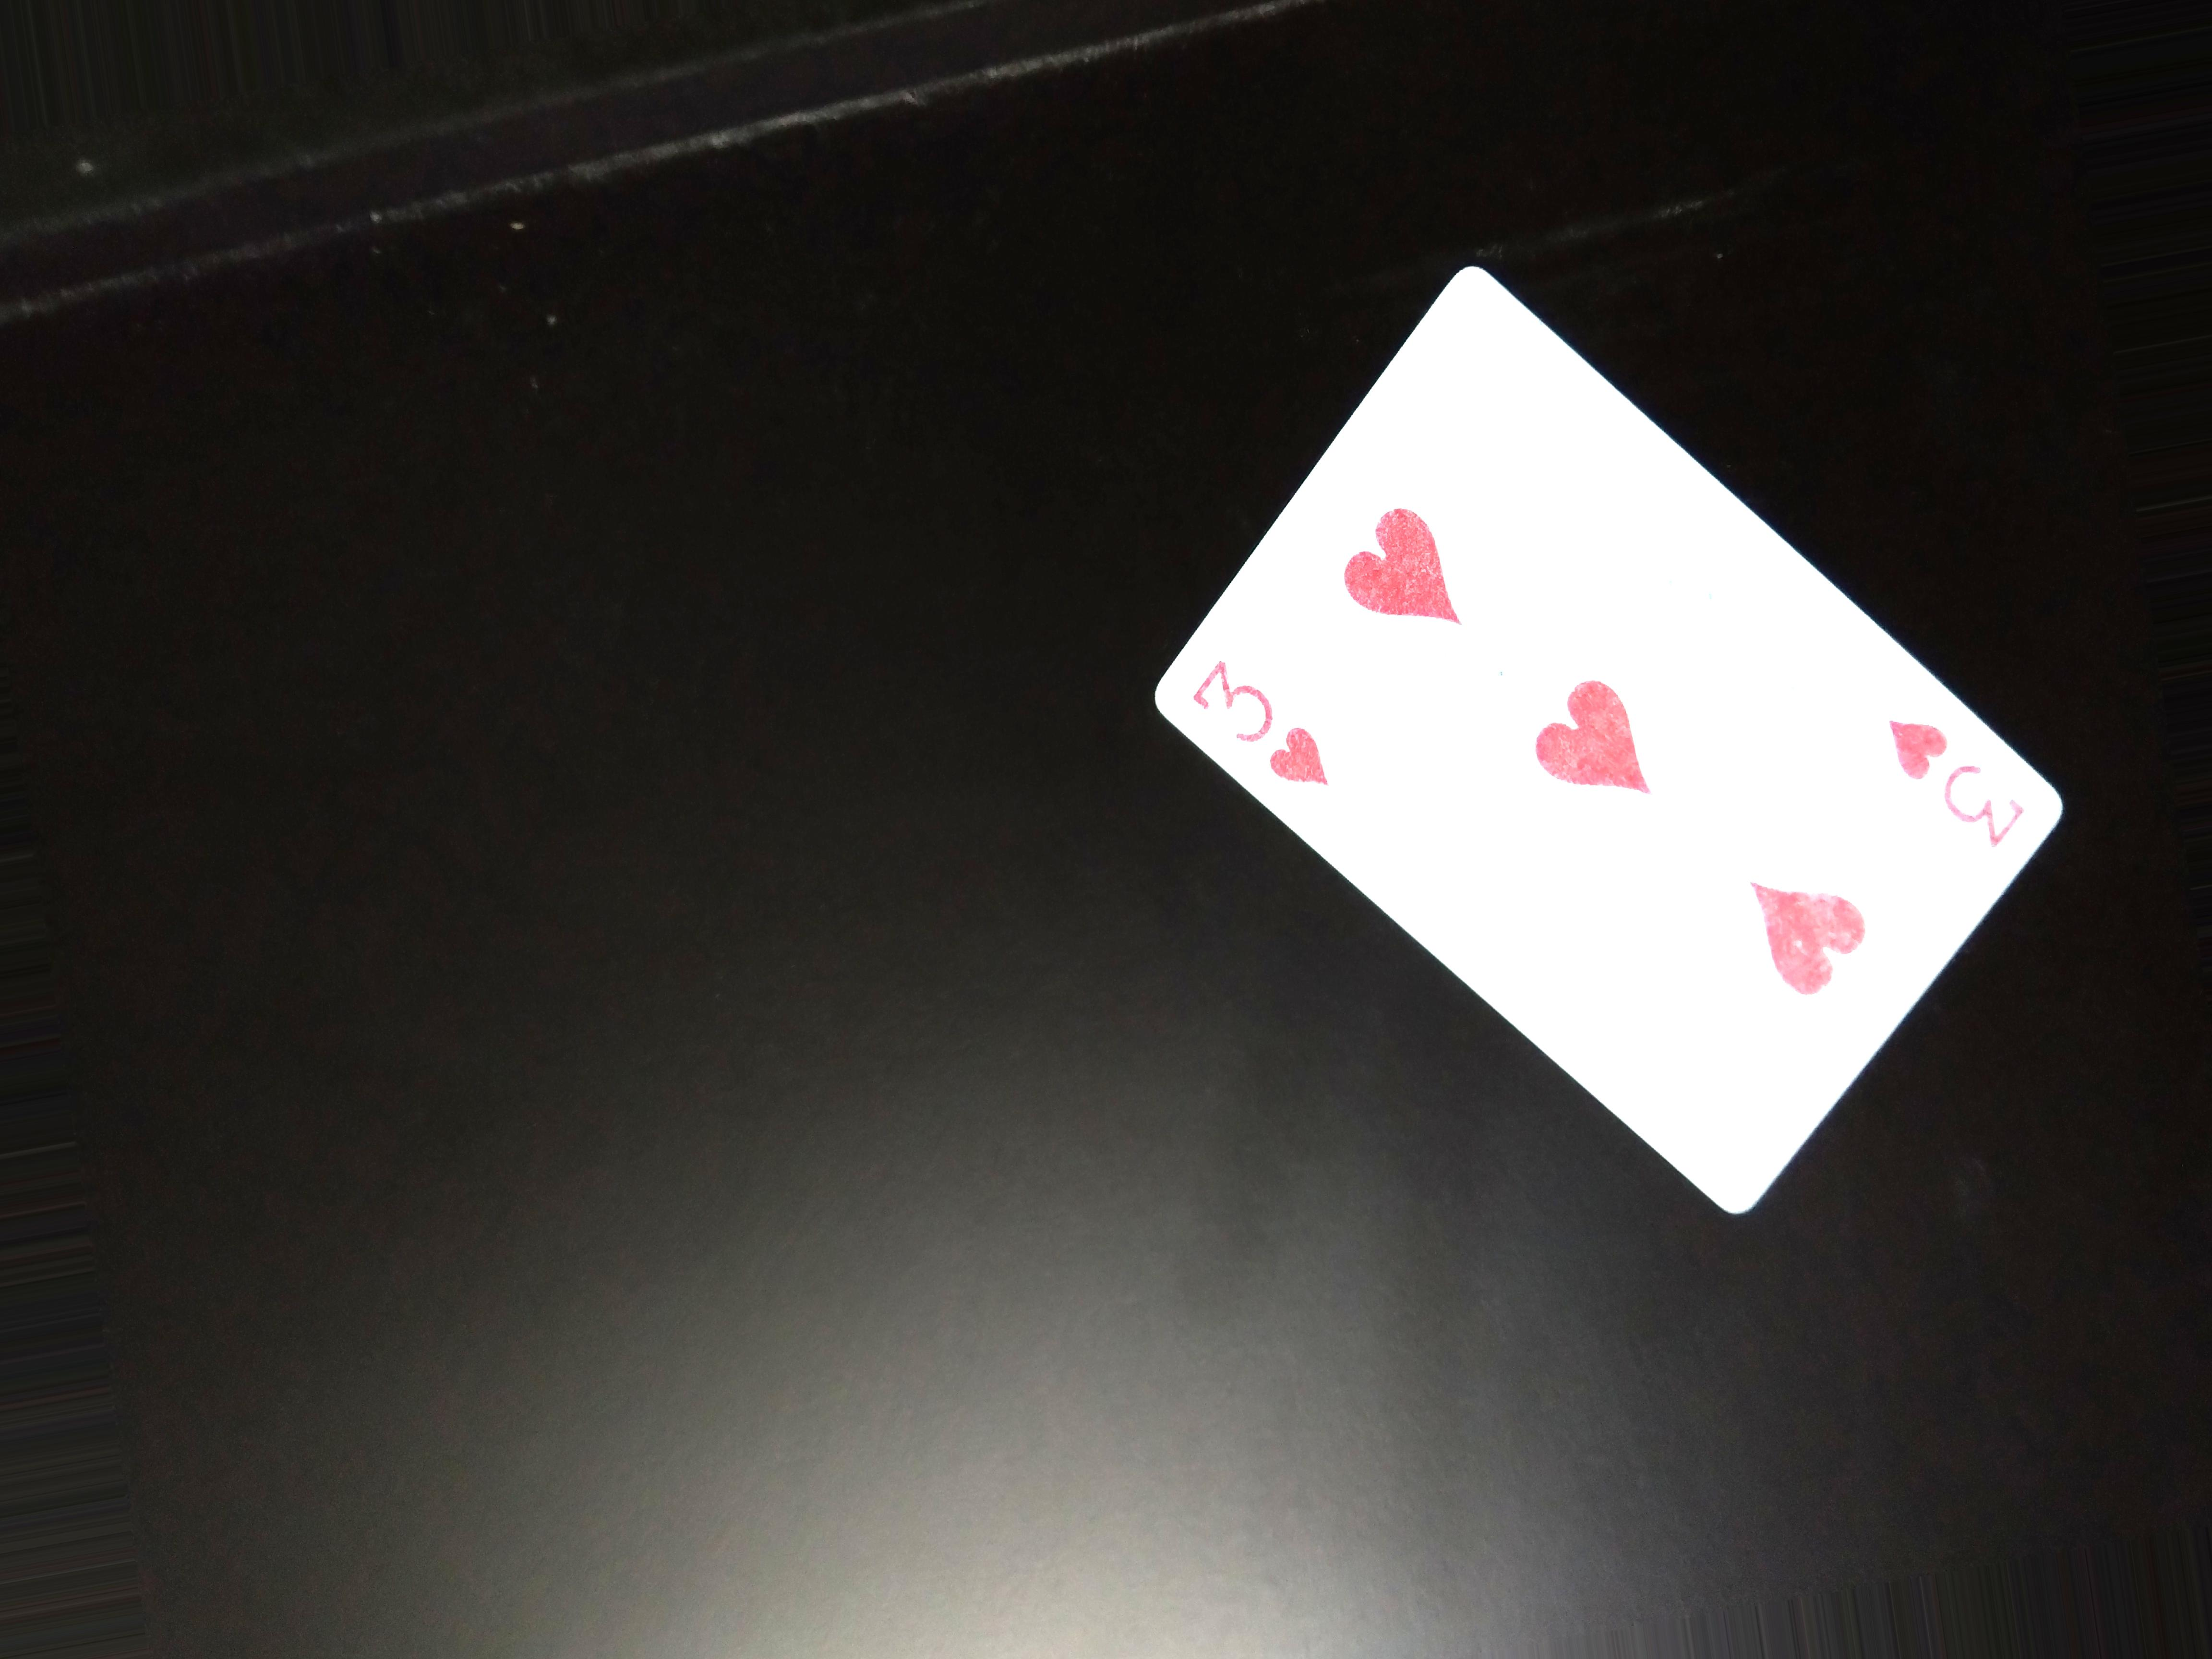3H: (1869, 695, 2034, 856)
